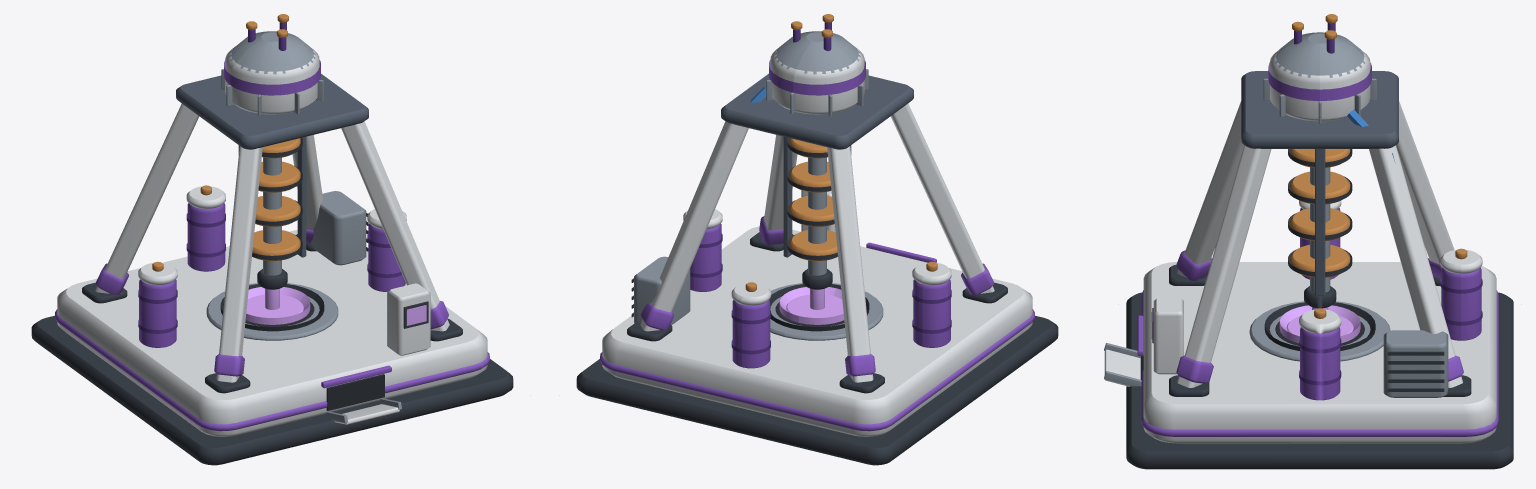
The model's file is foreuse_plasma.glb.
3 views of the same model, side by side, from view 1: azimuth 30°, elevation 25°; view 2: azimuth 150°, elevation 25°; view 3: azimuth 270°, elevation 25° (orthographic). The views are drawn at different scales.
Parts seen in each view (by area): view 1: pieces_av_blanc.002, pieces_av_fonce.002, pieces_av_violet.002, pieces_av_gris.002, pieces_av_sombre.002, pieces_av_cuivre.002, pieces_av_grille.002, plasma_av_plasma.002, pieces_av_violet_fonce.002; view 2: pieces_av_blanc.002, pieces_av_fonce.002, pieces_av_violet.002, pieces_av_gris.002, pieces_av_sombre.002, pieces_av_cuivre.002, plasma_av_plasma.002, pieces_av_violet_fonce.002, pieces_av_grille.002; view 3: pieces_av_blanc.002, pieces_av_fonce.002, pieces_av_violet.002, pieces_av_gris.002, pieces_av_sombre.002, pieces_av_cuivre.002, pieces_av_grille.002, plasma_av_plasma.002, pieces_av_violet_fonce.002.
Part boxes in pixels (x1=…): pieces_av_blanc.002: x1=57, y1=47, x2=487, y2=436; pieces_av_fonce.002: x1=31, y1=137, x2=513, y2=465; pieces_av_violet.002: x1=55, y1=60, x2=489, y2=431; pieces_av_gris.002: x1=206, y1=31, x2=401, y2=422; pieces_av_sombre.002: x1=176, y1=73, x2=368, y2=257; pieces_av_cuivre.002: x1=152, y1=14, x2=300, y2=271; pieces_av_grille.002: x1=220, y1=284, x2=384, y2=410; plasma_av_plasma.002: x1=245, y1=287, x2=310, y2=324; pieces_av_violet_fonce.002: x1=138, y1=22, x2=402, y2=333; pieces_av_blanc.002: x1=602, y1=47, x2=1032, y2=436; pieces_av_fonce.002: x1=576, y1=137, x2=1058, y2=465; pieces_av_violet.002: x1=600, y1=60, x2=1034, y2=431; pieces_av_gris.002: x1=634, y1=31, x2=883, y2=340; pieces_av_sombre.002: x1=721, y1=73, x2=913, y2=257; pieces_av_cuivre.002: x1=745, y1=14, x2=937, y2=291; plasma_av_plasma.002: x1=779, y1=287, x2=844, y2=324; pieces_av_violet_fonce.002: x1=690, y1=22, x2=951, y2=354; pieces_av_grille.002: x1=769, y1=284, x2=869, y2=331; pieces_av_blanc.002: x1=1104, y1=50, x2=1496, y2=443; pieces_av_fonce.002: x1=1126, y1=149, x2=1513, y2=469; pieces_av_violet.002: x1=1137, y1=63, x2=1498, y2=436; pieces_av_gris.002: x1=1104, y1=32, x2=1448, y2=397; pieces_av_sombre.002: x1=1241, y1=71, x2=1398, y2=295; pieces_av_cuivre.002: x1=1290, y1=14, x2=1467, y2=318; pieces_av_grille.002: x1=1141, y1=302, x2=1375, y2=379; plasma_av_plasma.002: x1=1279, y1=305, x2=1360, y2=343; pieces_av_violet_fonce.002: x1=1294, y1=23, x2=1482, y2=385.
Size of the model in its own units: 2 by 2 by 2.07.
